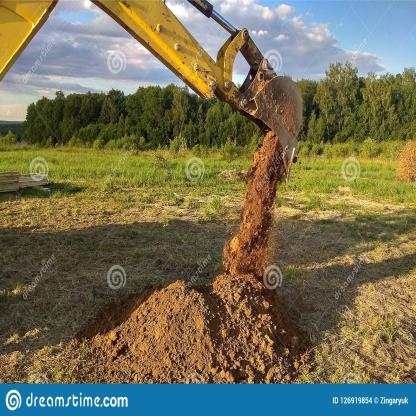excavator: (7, 1, 315, 204)
